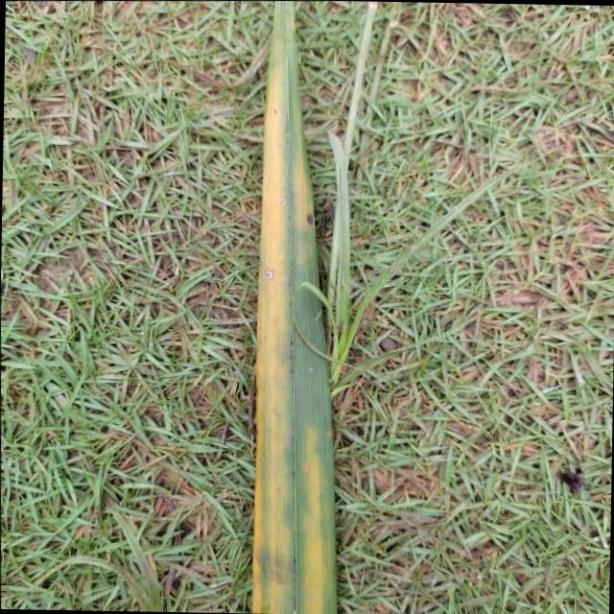Megnesium: (249, 5, 338, 614)
